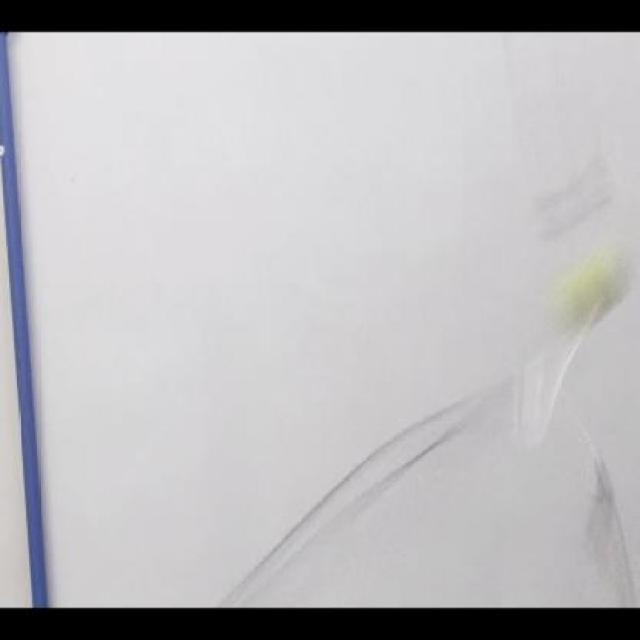baseball: (552, 238, 638, 336)
